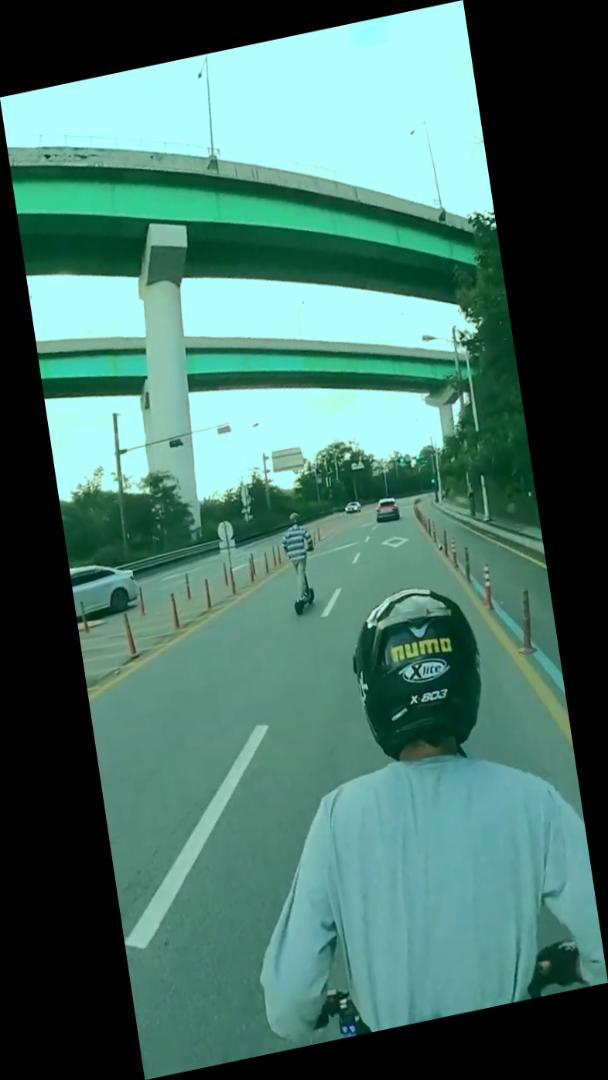helmet: (276, 506, 325, 620)
